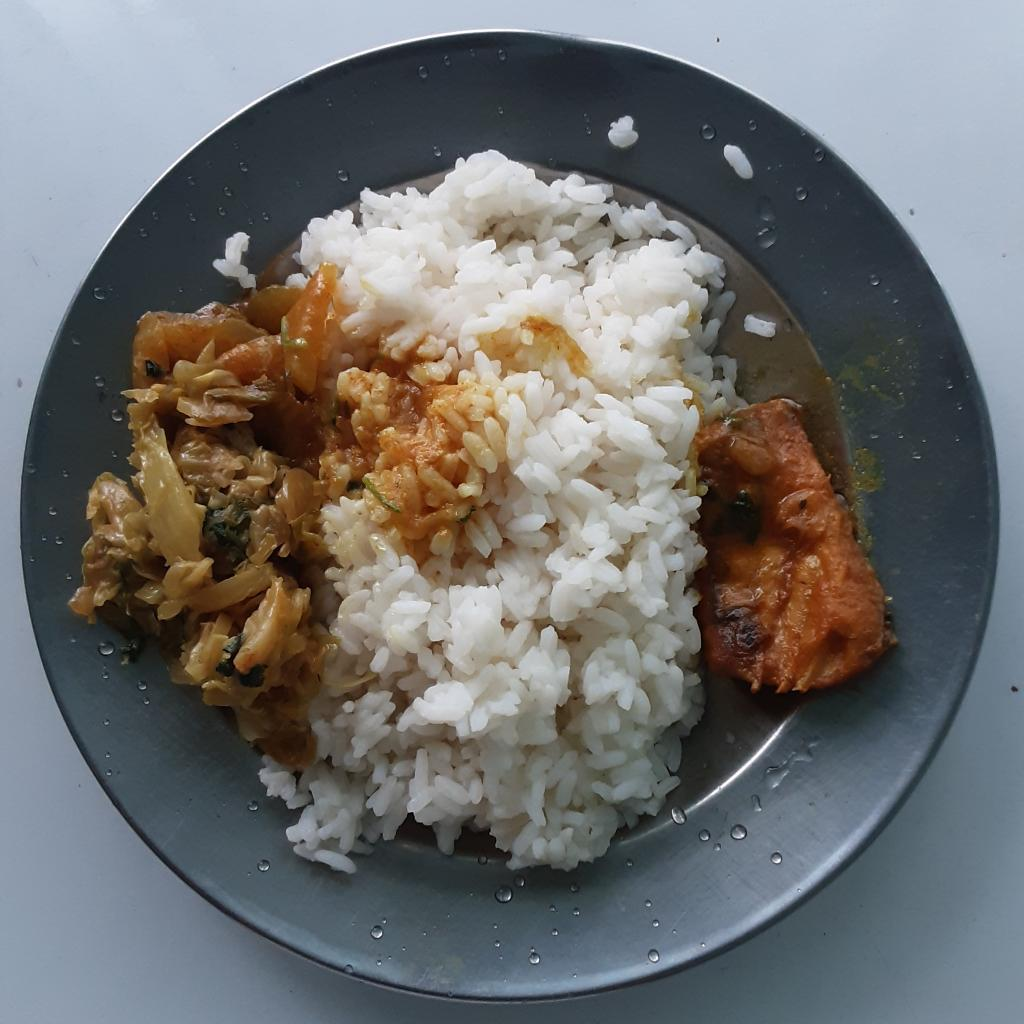fish: (698, 397, 903, 699)
khichuri: (70, 263, 331, 764)
rice: (251, 152, 745, 875)
